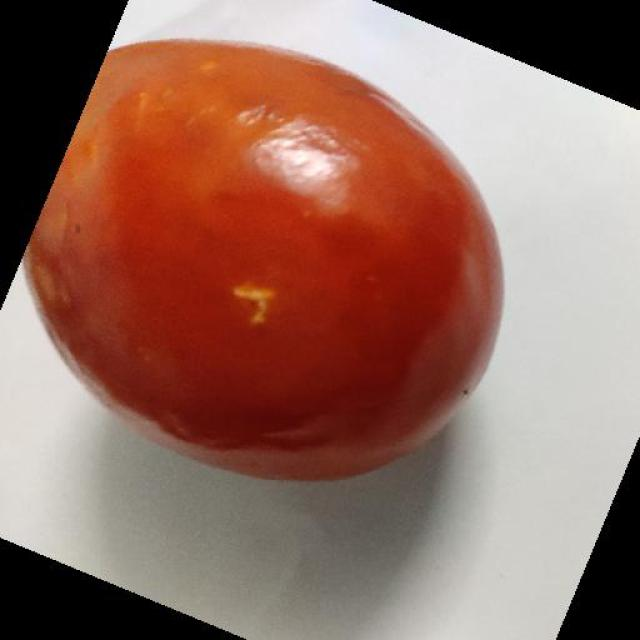Stale_tomato: (0, 42, 521, 483)
